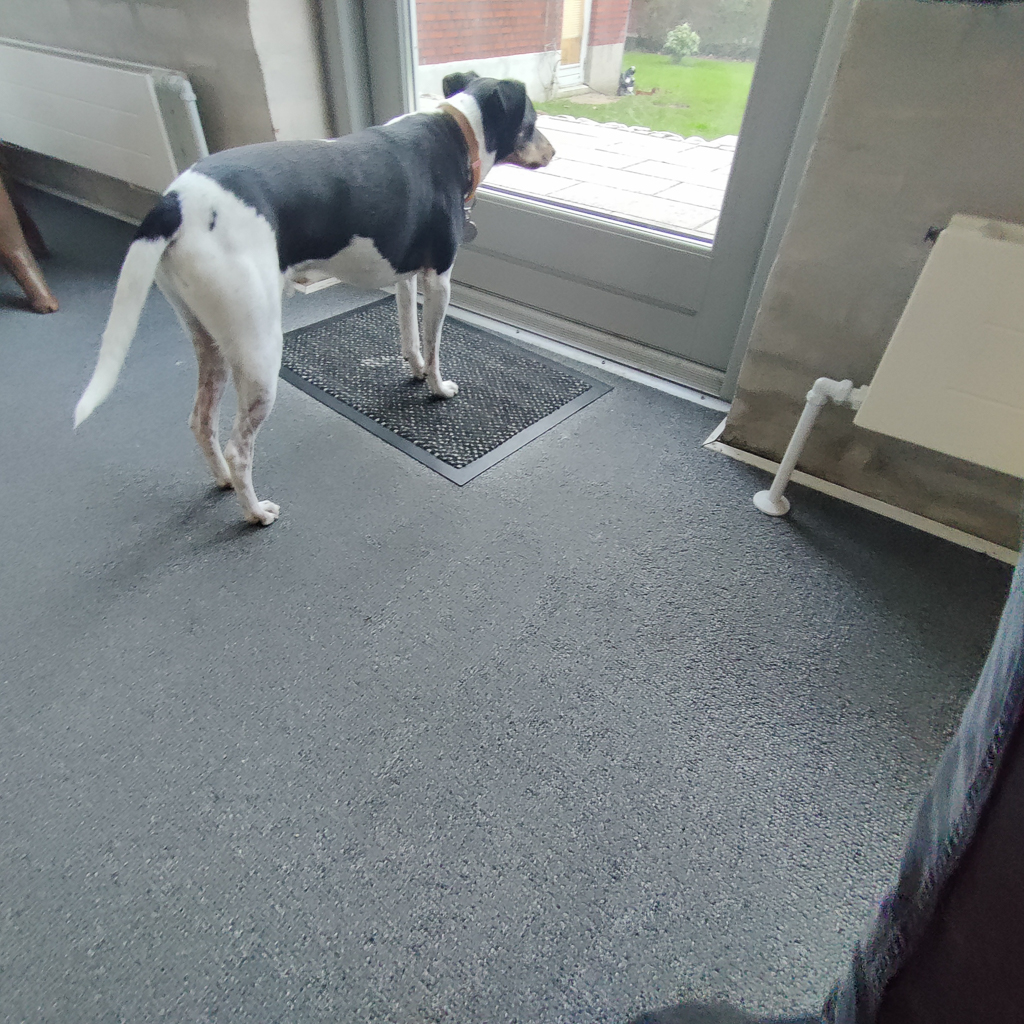Cattle: (0, 155, 68, 323)
Dog: (64, 51, 572, 555)
Humanoid: (608, 490, 1023, 1023), (606, 60, 643, 101)
